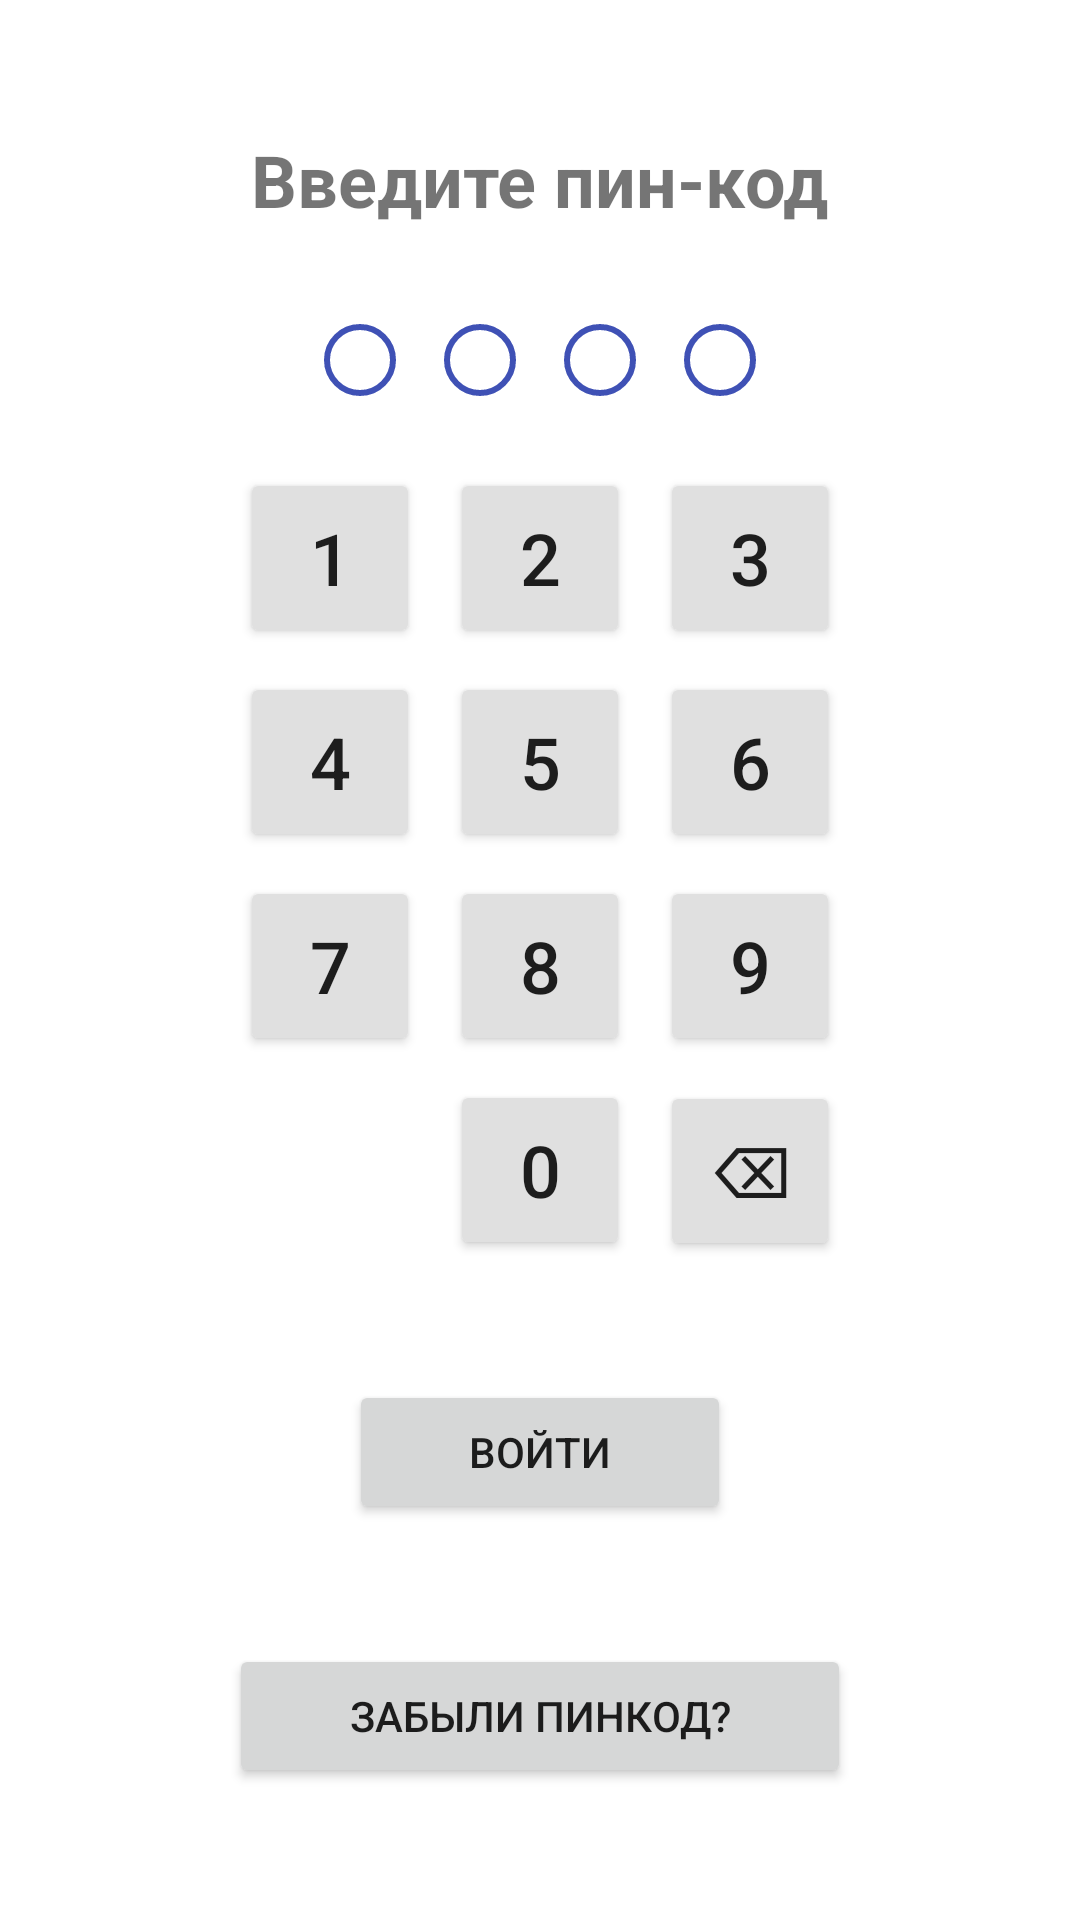

Icon click points for this 1080*1920 phone screenshot, format (x=x, y=y):
circle pin: (x=360, y=360), (x=480, y=360), (x=600, y=360), (x=720, y=360)
